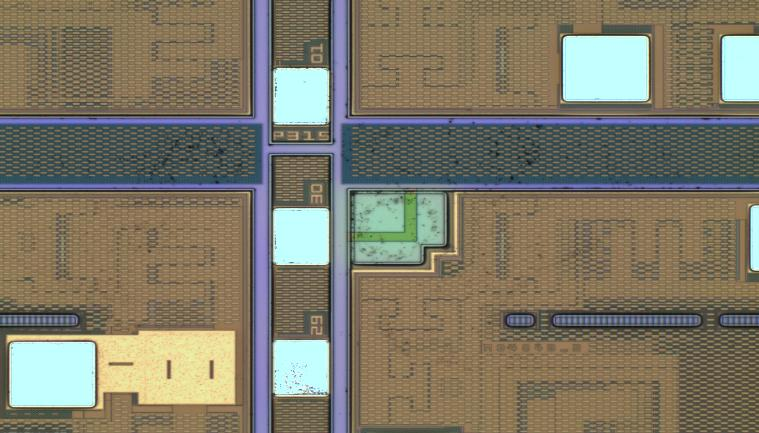PO CONTAMINATION: (42, 123, 555, 262)
